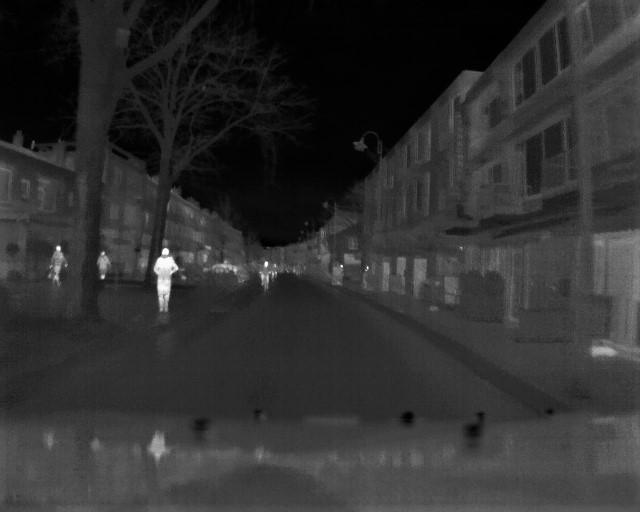person: (149, 246, 184, 312), (49, 242, 70, 288), (97, 248, 112, 288), (260, 259, 273, 292)
